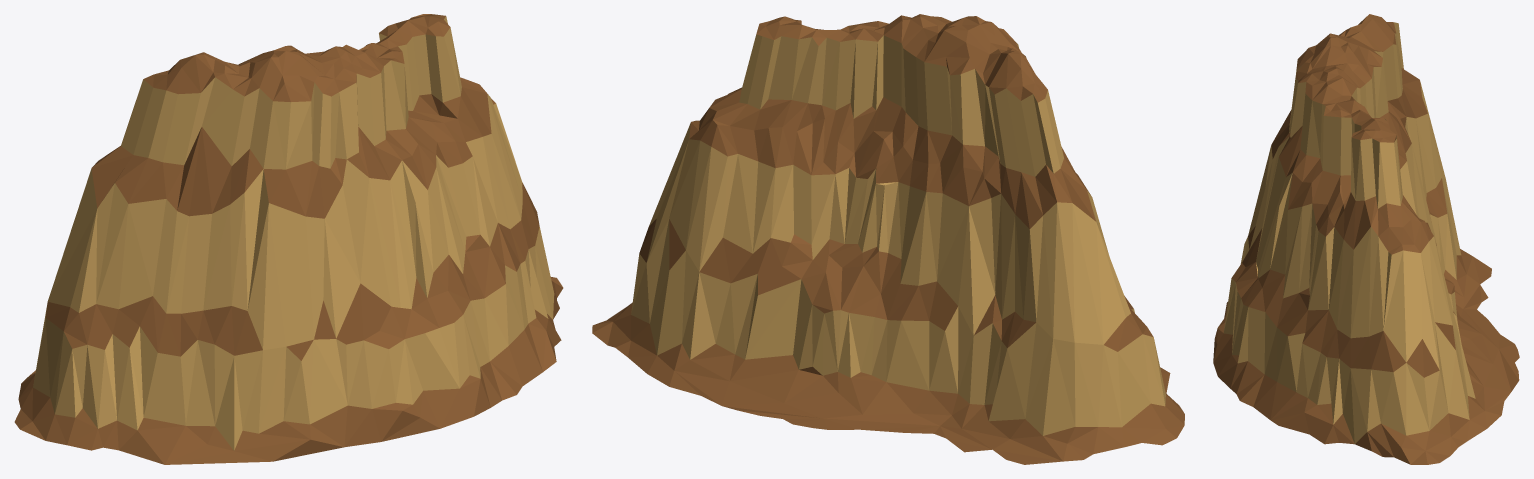
File: result.gltf
3 views of the same model, side by side, from view 1: azimuth 30°, elevation 25°; view 2: azimuth 150°, elevation 25°; view 3: azimuth 270°, elevation 25° (orthographic). The views are drawn at different scales.
Visible parts, largest first — view 1: Mounting_3; view 2: Mounting_3; view 3: Mounting_3.
Part boxes in pixels (x1,y1,x2,y2): Mounting_3: (14, 14, 563, 464); Mounting_3: (592, 14, 1184, 464); Mounting_3: (1213, 14, 1519, 464).
Size of the model in its own units: 2470 by 1480 by 1390.
